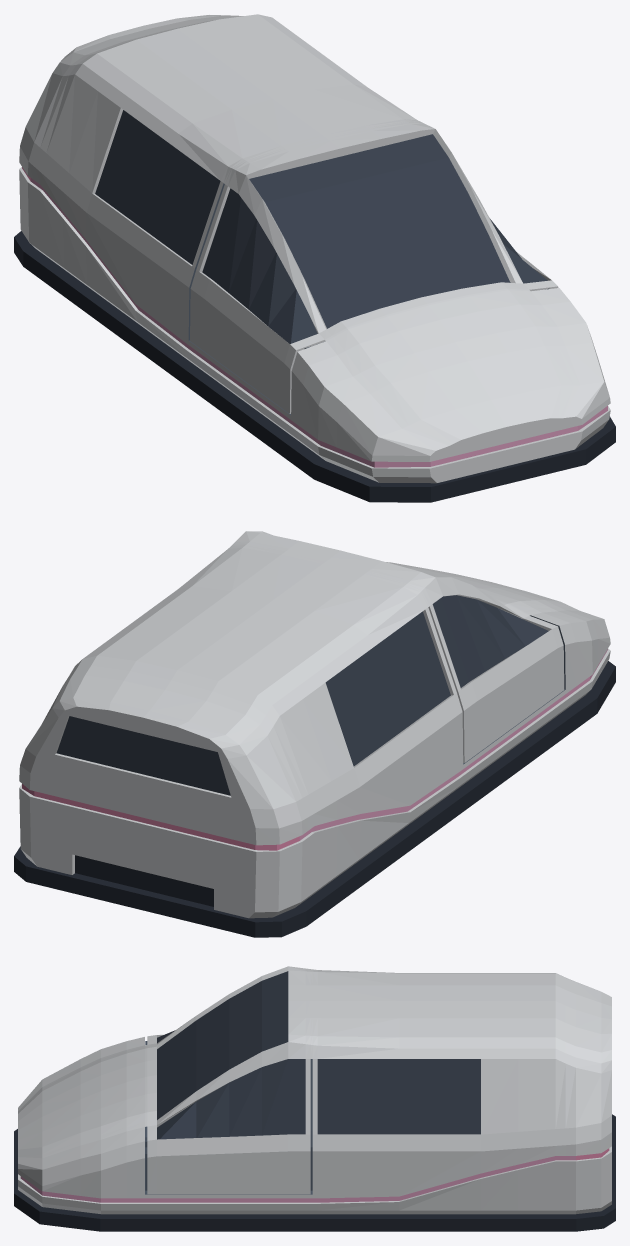
File: wheeled-city-coupe-5c381e.glb
The picture shows the model from 3 angles, top to bottom: view 1: azimuth 30°, elevation 25°; view 2: azimuth 150°, elevation 25°; view 3: azimuth 270°, elevation 25°; orthographic projection. The views are drawn at different scales.
Parts seen in each view (by area): view 1: wheeled-city-coupe-5c381e; view 2: wheeled-city-coupe-5c381e; view 3: wheeled-city-coupe-5c381e.
Boxes of the visible parts, x1,y1,x2,y2 form: wheeled-city-coupe-5c381e: (14,14,615,502); wheeled-city-coupe-5c381e: (14,531,615,937); wheeled-city-coupe-5c381e: (14,966,615,1231).
Bounding box in the file's own units: 2 × 1.49 × 4.5.
